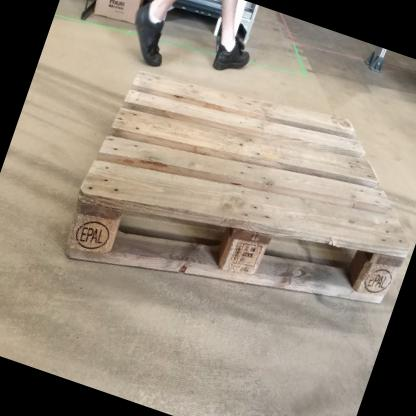BoxFace: (60, 66, 412, 311)
